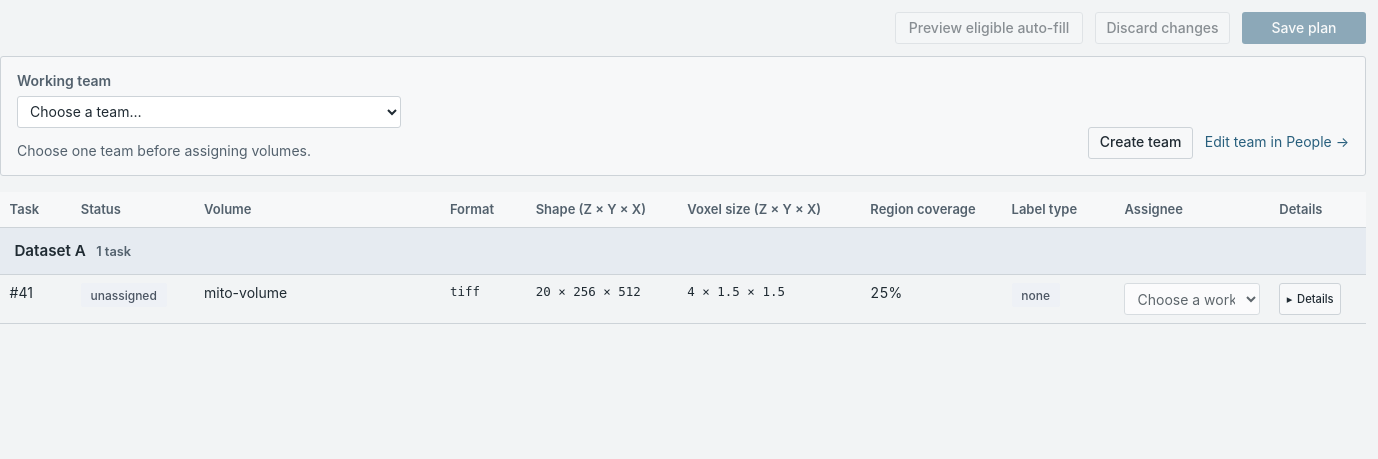
Test: AssignmentPlanEditor annotation time column › shows `-` for a legacy-exempt volume rather than a fabricated zero
Expected: the dropdown labelled "Working team" is shown, [17,96,401,128]
Click the button "▸ Details": (1310, 299) [1279,283,1341,315]
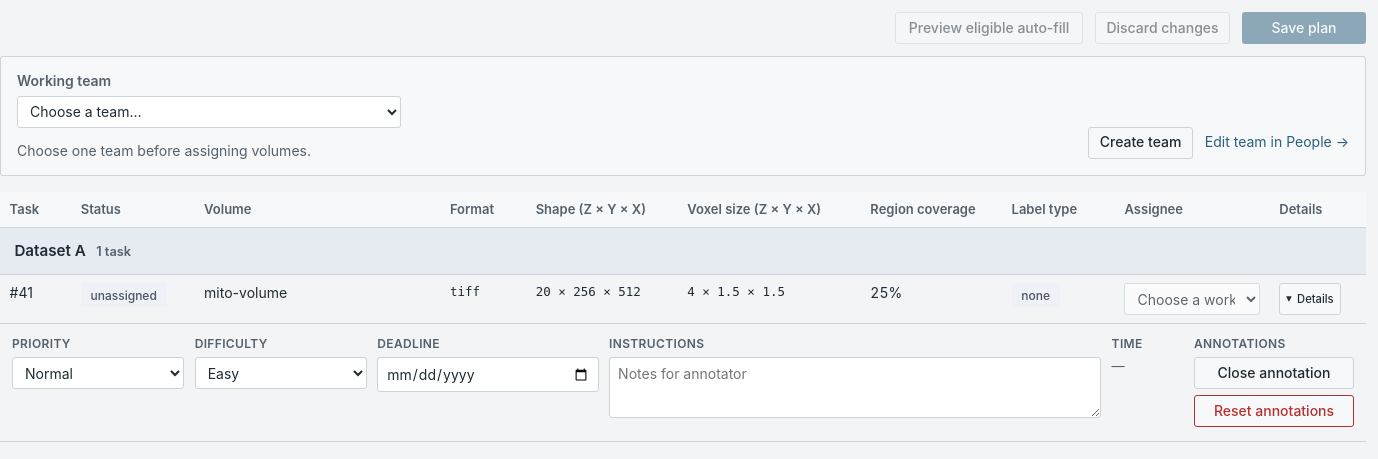
Result: the text with class "annotation-time" reads "—" at [1112,358,1125,374]
